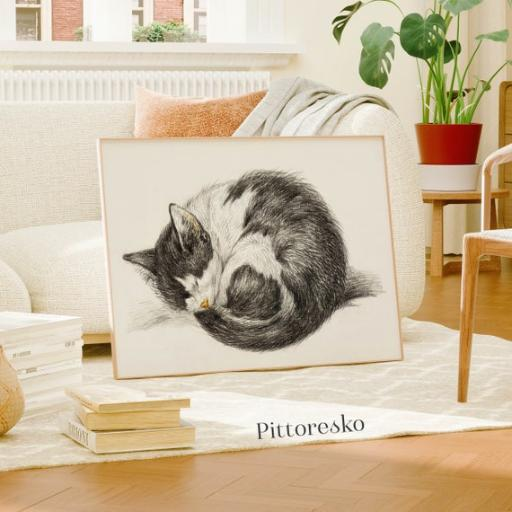cat_sleeping: (123, 170, 376, 351)
